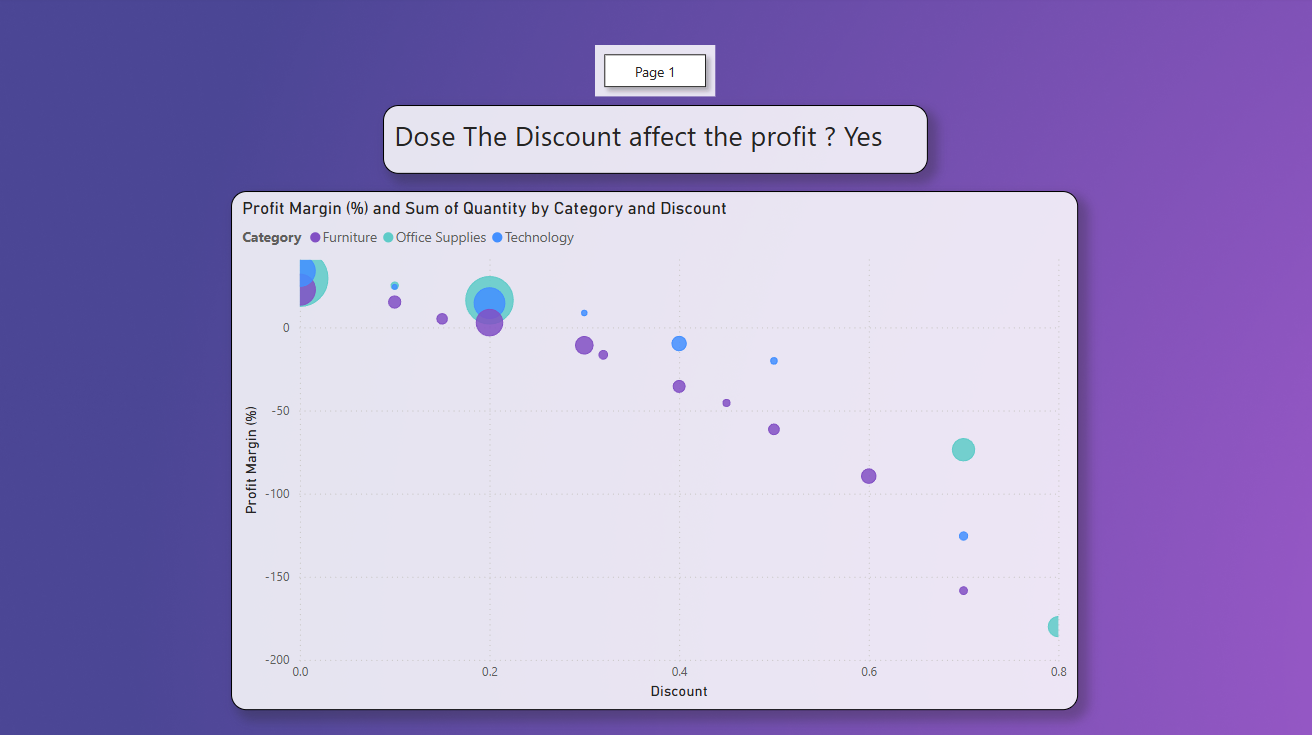

This screenshot's page, from the dashboard's own definition file:
{"tool":"powerbi","page":{"name":"Page 2","canvas":[1280,720],"ordinal":1},"visuals":[{"type":"scatterChart","fields":{"X":["Sample - Superstore.Discount"],"Size":["Sum(Sample - Superstore.Quantity)"],"Series":["Sample - Superstore.Category"],"Y":["Sample - Superstore.Profit Margin (%)"]},"box":[228.1,189,823.9,505.4],"z":0},{"type":"textbox","box":[375,104.8,530.1,66.8],"z":1000},{"type":"pageNavigator","box":[581.4,46.2,117.1,50.3],"z":2000}]}

Visuals, with their boxes in screenshot pixels (x1, y1, x2, y2), scaled from the page's 1280x720 canvas onto the 1312x735 screenshot:
scatterChart - Sample - Superstore.Discount x Sum(Sample - Superstore.Quantity): 234 193 1078 709
textbox: 384 107 928 175
pageNavigator: 596 47 716 99
